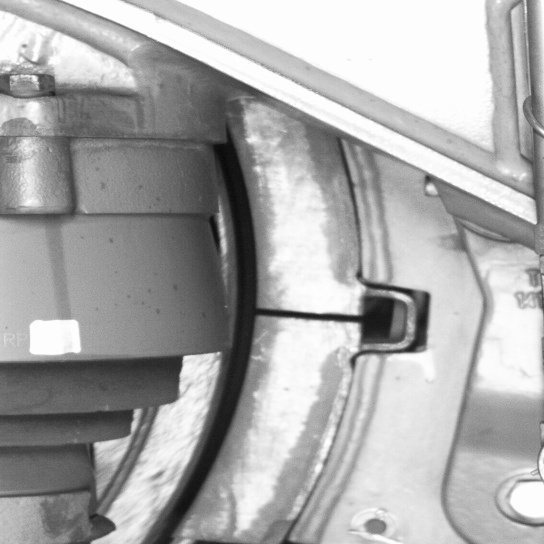KnifeSwitch: (138, 139, 375, 541)
